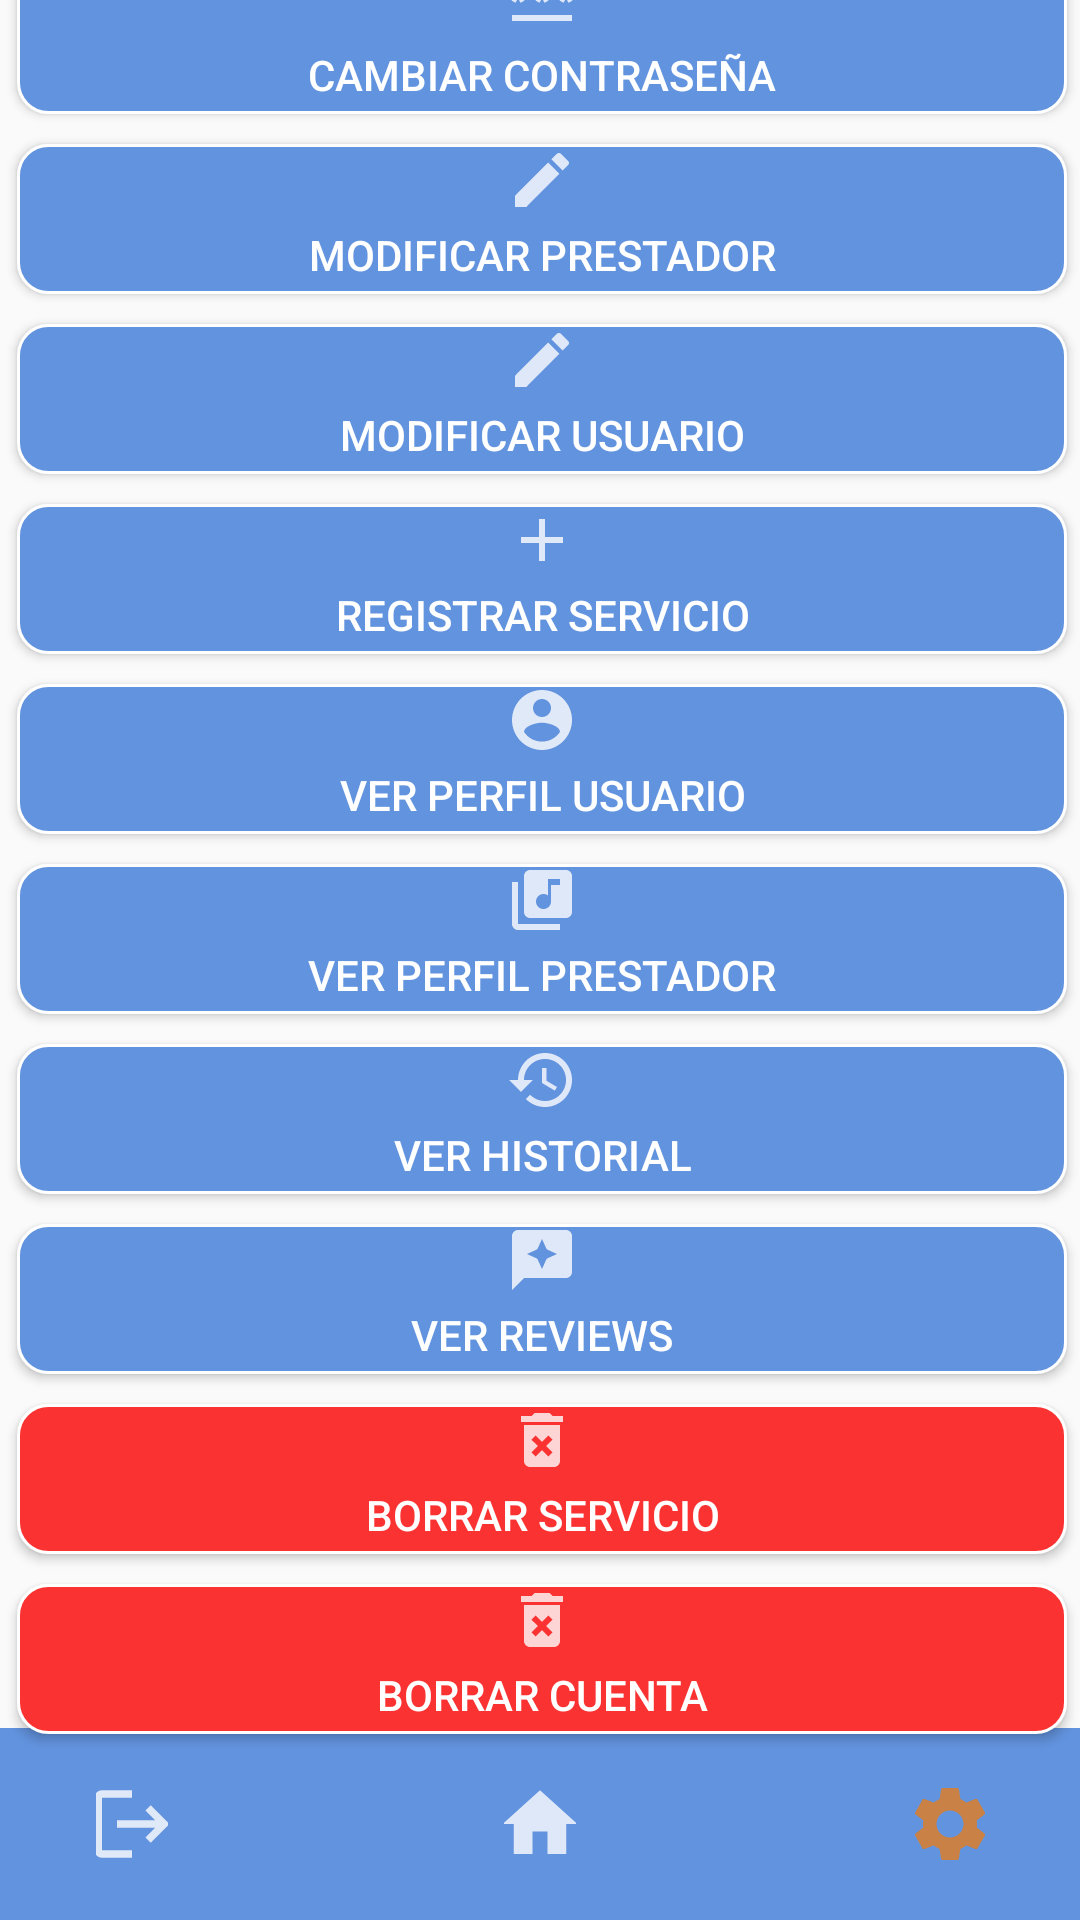

Screen size 1080px×1920px. Icon name, then its box in pixels as [x1,y1,x2,y2]:
home: [504,1790,576,1854]
settings activado: [915,1788,985,1860]
